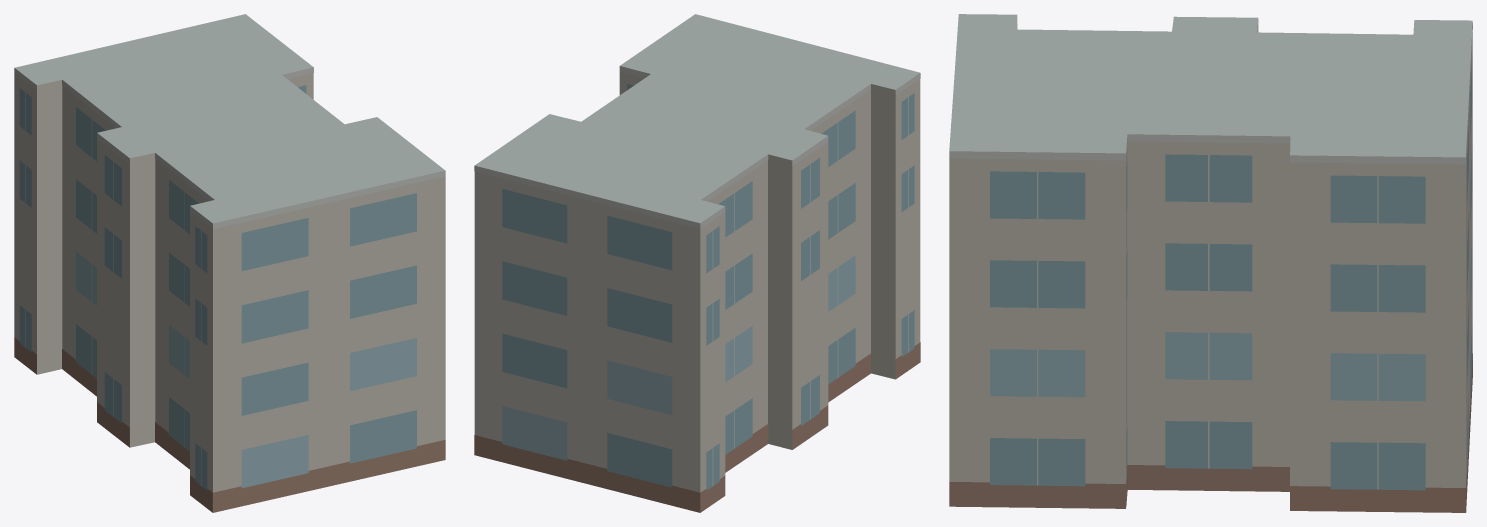
The model's file is survey-upis-32911634.glb.
The picture shows the model from 3 angles, left to right: view 1: azimuth 30°, elevation 25°; view 2: azimuth 150°, elevation 25°; view 3: azimuth 270°, elevation 25°; orthographic projection. The views are drawn at different scales.
Parts seen in each view (by area): view 1: survey-upis-32911634.tmp; view 2: survey-upis-32911634.tmp; view 3: survey-upis-32911634.tmp.
Part boxes in pixels (box(x1,y1,x2,y2)): survey-upis-32911634.tmp: box(14, 14, 445, 512); survey-upis-32911634.tmp: box(474, 14, 920, 512); survey-upis-32911634.tmp: box(949, 14, 1472, 512).
Bounding box in the file's own units: 10.52 × 12.15 × 16.23.
